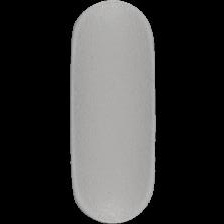33261-483: (0, 0, 224, 224)
